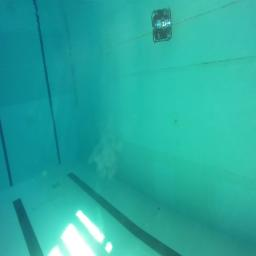front: (152, 21, 173, 43)
